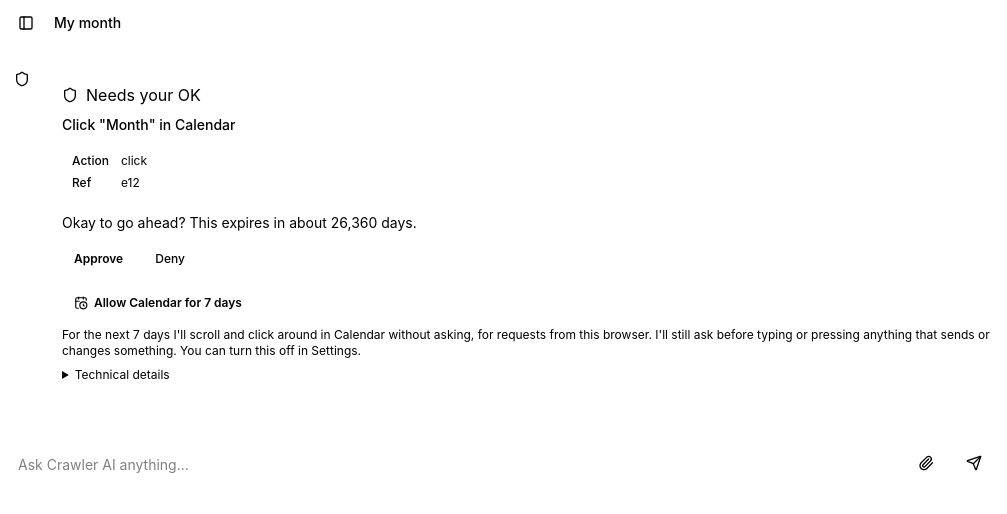
Chat's weekly button on an approval card › keeps the card with the server's reason when allowing fails
The image size is (1007, 514).
What coordinates should you click on to do the following:
click the button "Allow Calendar for 7 days"
I would click on:
 (158, 303)
Its box is [62,285,254,321].
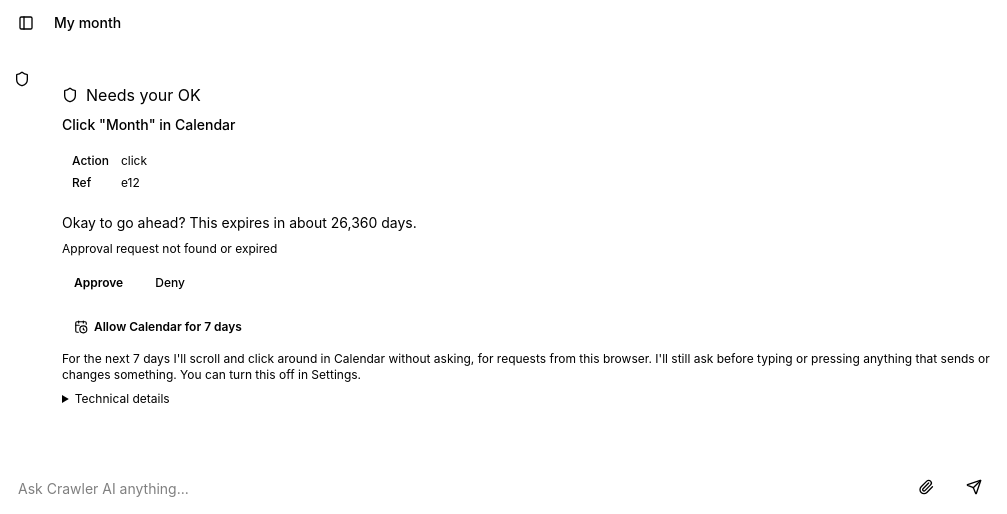
Expected: the button "Allow Calendar for 7 days" is enabled, [62,309,254,345]
Result: the message reads "Approval request not found or expired" at [62,241,277,256]
